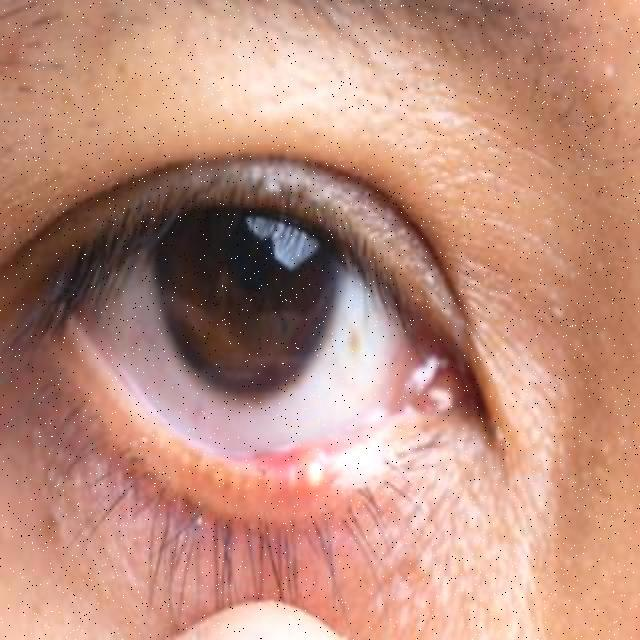Stye: (210, 392, 398, 540)
